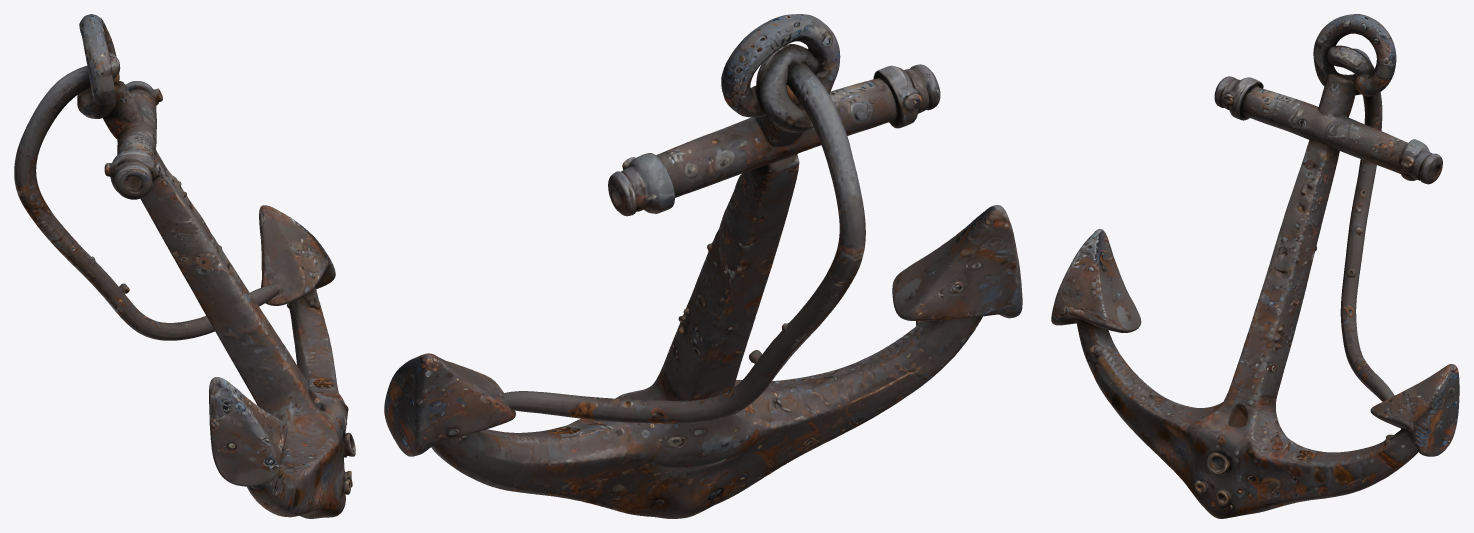
Rendered from prop-anchor.glb.
The picture shows the model from 3 angles, left to right: view 1: azimuth 30°, elevation 25°; view 2: azimuth 150°, elevation 25°; view 3: azimuth 270°, elevation 25°; orthographic projection. The views are drawn at different scales.
Parts seen in each view (by area): view 1: tripo_node_1b524952-25af-4ac6-8c3a-b9b9471db296; view 2: tripo_node_1b524952-25af-4ac6-8c3a-b9b9471db296; view 3: tripo_node_1b524952-25af-4ac6-8c3a-b9b9471db296.
Boxes of the visible parts, bbox=[...] form: tripo_node_1b524952-25af-4ac6-8c3a-b9b9471db296: bbox=[14, 14, 355, 518]; tripo_node_1b524952-25af-4ac6-8c3a-b9b9471db296: bbox=[384, 14, 1022, 518]; tripo_node_1b524952-25af-4ac6-8c3a-b9b9471db296: bbox=[1051, 14, 1459, 518].
Size of the model in its own units: 2.26 by 3 by 2.57.
1 material, 1 textured.
